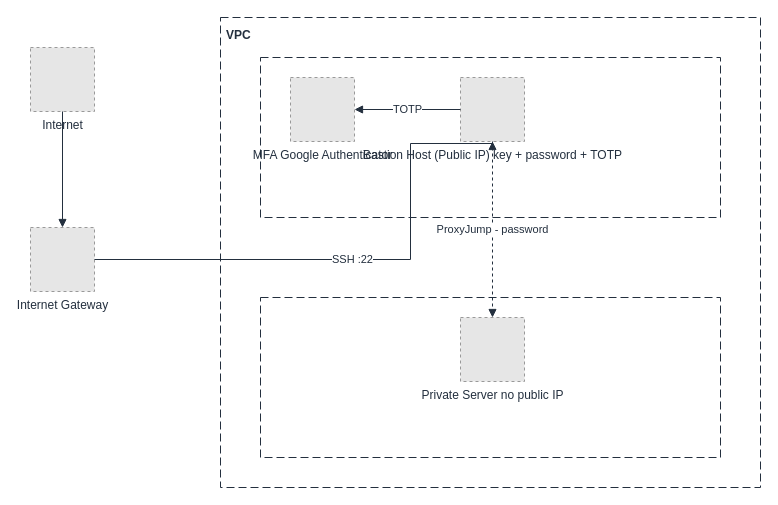
Image size: 778x505. Some labels were removed from this diagram. Grey dashed boxes stand in for pictures. The shapes that lost their labels are listed below. From the top down, each one's box as (x1, y1, x2, y2) in pixels, then its label:
(260, 56, 720, 218): Public Subnet - 10.0.1.0/24
(260, 296, 720, 458): Private Subnet - 10.0.2.0/24
